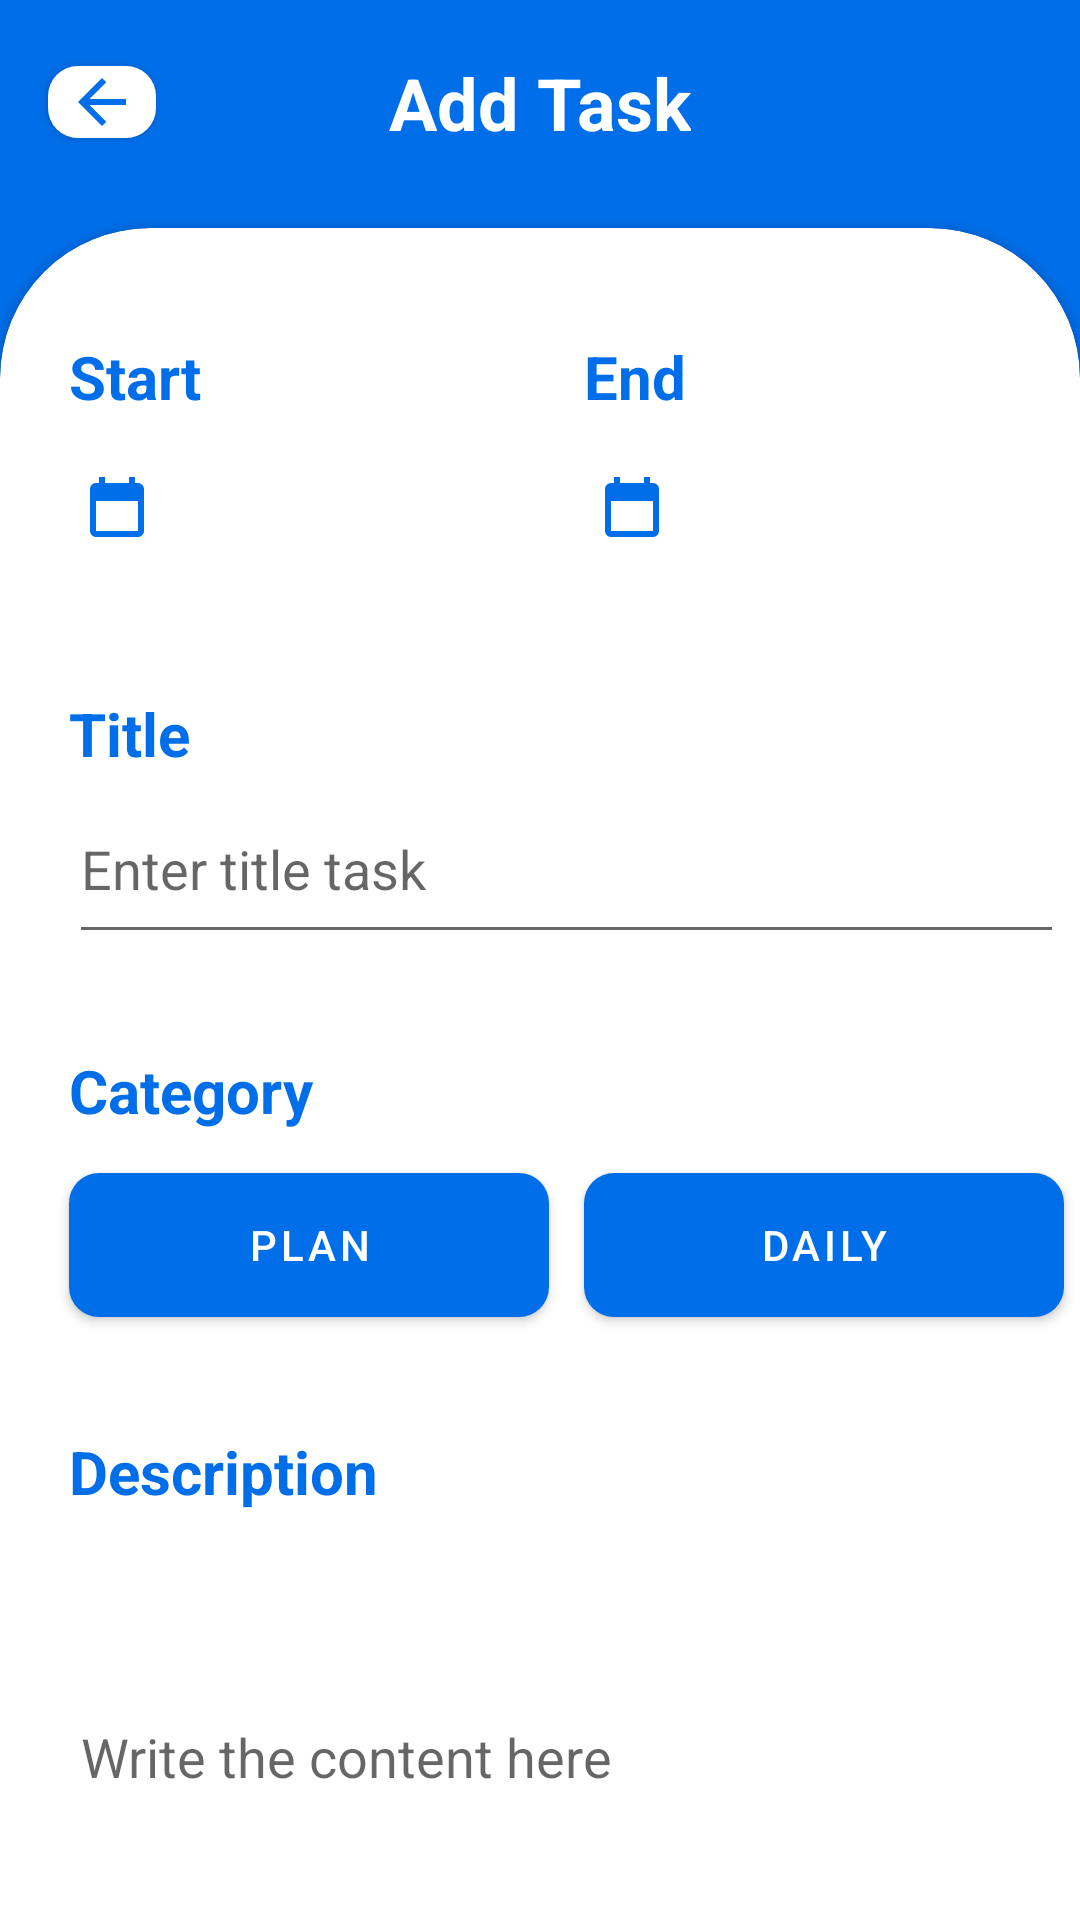

Locate icon controls on the screen. Image size 1080px×1920px, boxes as bbox(x1, y1, x2, y2).
arrow back: bbox(48, 66, 156, 138)
